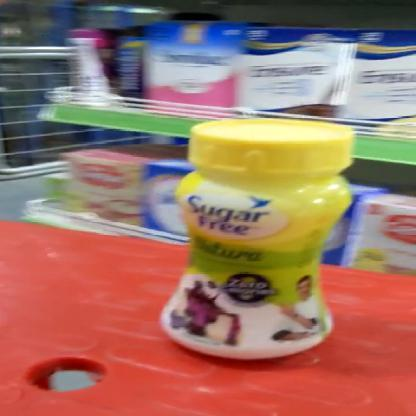SUGAR FREE NATURA_ POWDER_CONC_100G: (159, 113, 363, 362)
